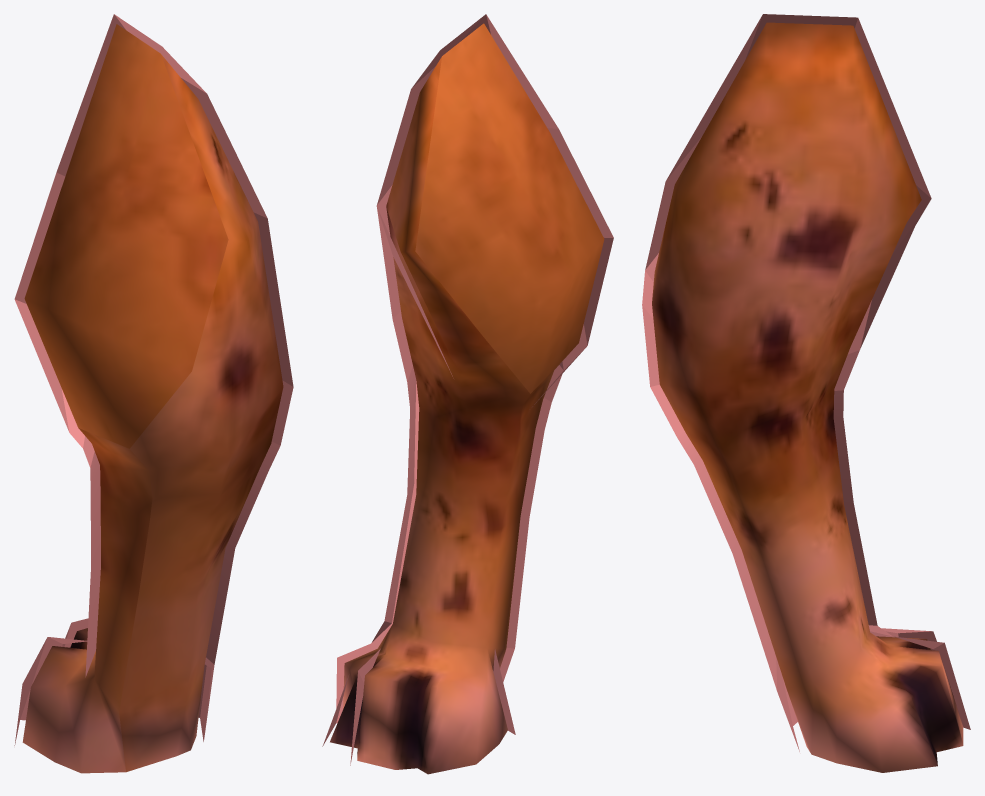
The model's file is entity842182.gltf.
The picture shows the model from 3 angles, left to right: view 1: azimuth 30°, elevation 25°; view 2: azimuth 150°, elevation 25°; view 3: azimuth 270°, elevation 25°; orthographic projection. The views are drawn at different scales.
Visible parts, largest first — view 1: node_mesh_mountain_cat_01; view 2: node_mesh_mountain_cat_01; view 3: node_mesh_mountain_cat_01.
Boxes of the visible parts, <box> form: node_mesh_mountain_cat_01: <box>14,14,293,773</box>; node_mesh_mountain_cat_01: <box>322,14,613,774</box>; node_mesh_mountain_cat_01: <box>642,14,970,772</box>.
Bounding box in the file's own units: 0.1987 × 0.6285 × 0.2594.
